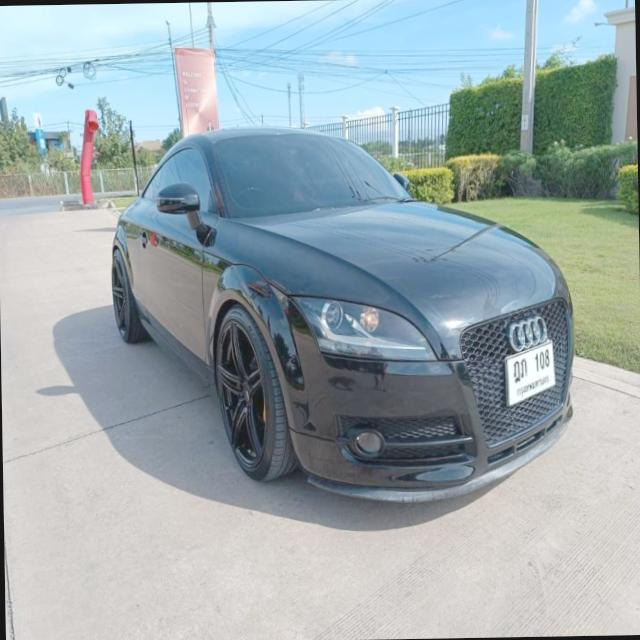license_plate: (502, 341, 560, 406)
